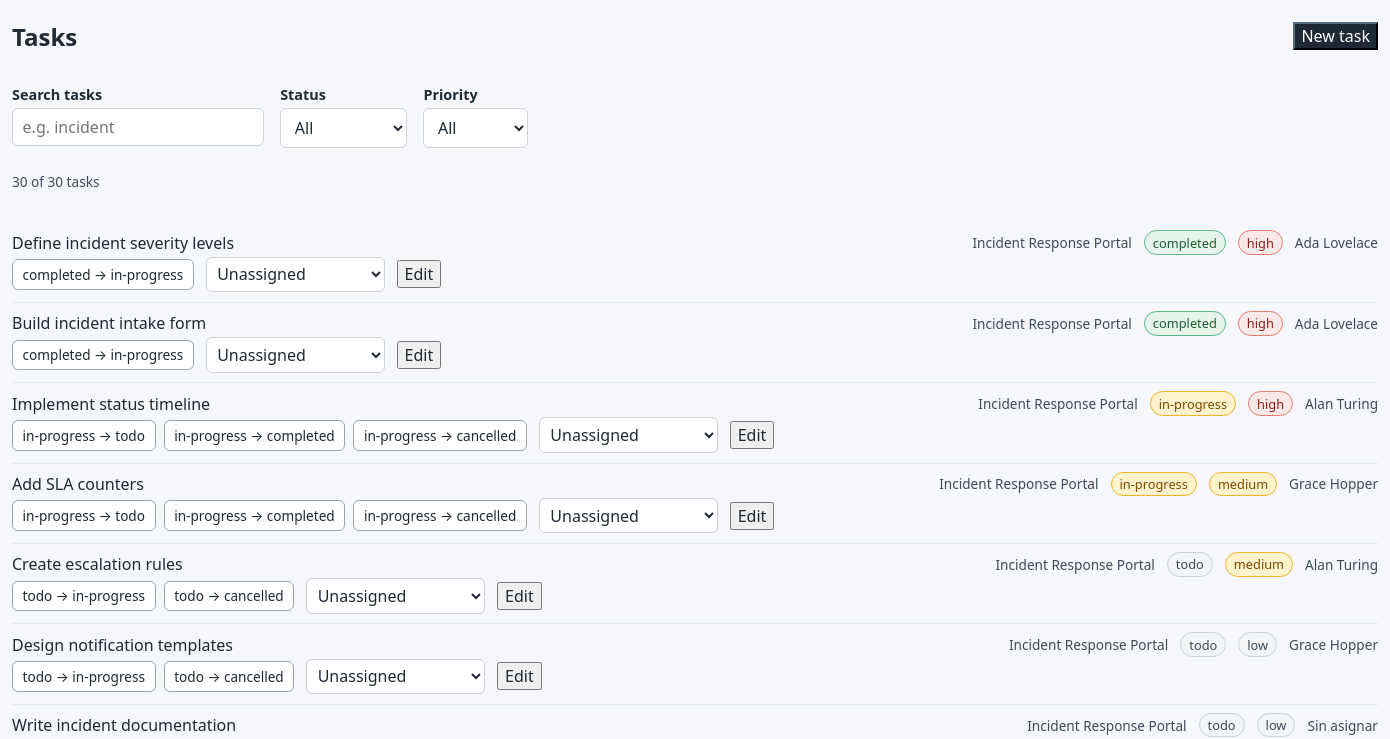
TasksComponent › shows an explicit empty state when no tasks match (TSK-LIST-3)
Step 1. Type "zzzz" into the search field with id "task-search" → (138, 127), box [12,108,264,146]
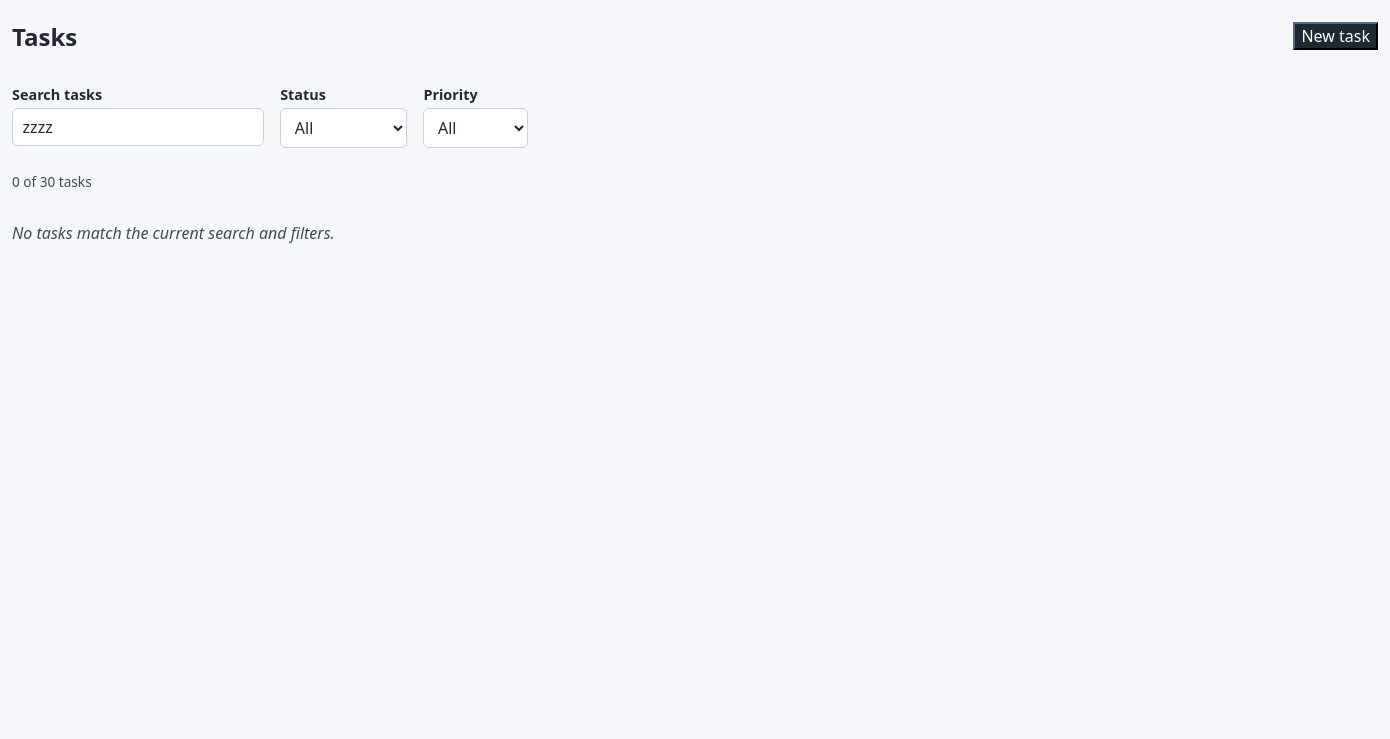
Expected: the text "No tasks match the current search and filters." is shown, [12,222,335,244]
